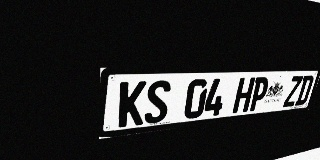0: (183, 79, 209, 120)
4: (203, 78, 228, 117)
D: (294, 75, 315, 106)
H: (232, 77, 256, 113)
K: (118, 81, 147, 128)
P: (248, 77, 270, 112)
S: (144, 80, 172, 124)
Z: (283, 76, 304, 107)
